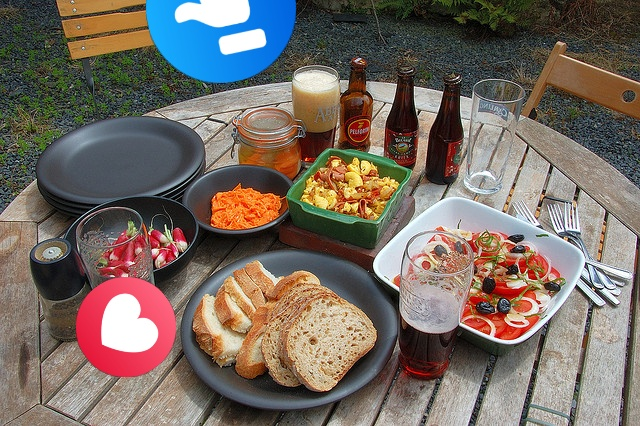like: (146, 0, 296, 83)
love: (76, 277, 176, 377)
